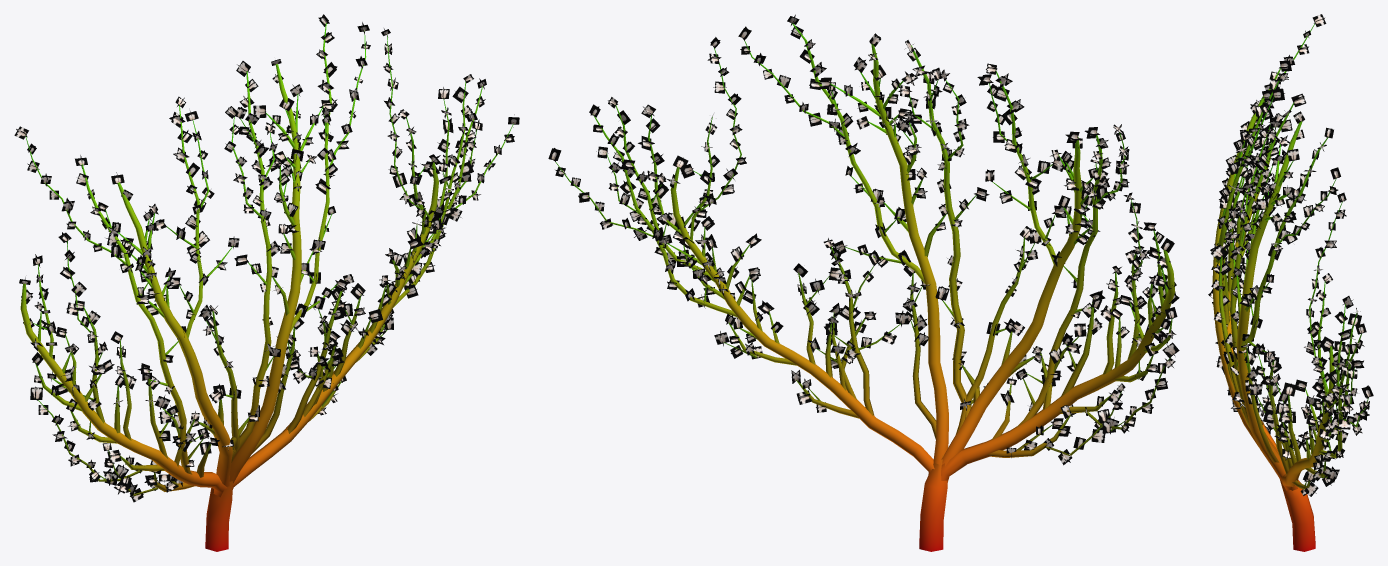
Rendered from SM_BambooFan_A.fbx.
3 renders of one model, left to right at view 1: azimuth 30°, elevation 25°; view 2: azimuth 150°, elevation 25°; view 3: azimuth 270°, elevation 25°, orthographic. The views are drawn at different scales.
Parts seen in each view (by area): view 1: MSH_BambooFan_A_LOD0; view 2: MSH_BambooFan_A_LOD0; view 3: MSH_BambooFan_A_LOD0.
Part boxes in pixels (left/top/right/bottom): MSH_BambooFan_A_LOD0: left=14, top=14, right=519, bottom=551; MSH_BambooFan_A_LOD0: left=548, top=14, right=1179, bottom=551; MSH_BambooFan_A_LOD0: left=1208, top=14, right=1373, bottom=551.
Size of what is drawn, in the model's own units: 1.14 by 0.9775 by 0.3086.
